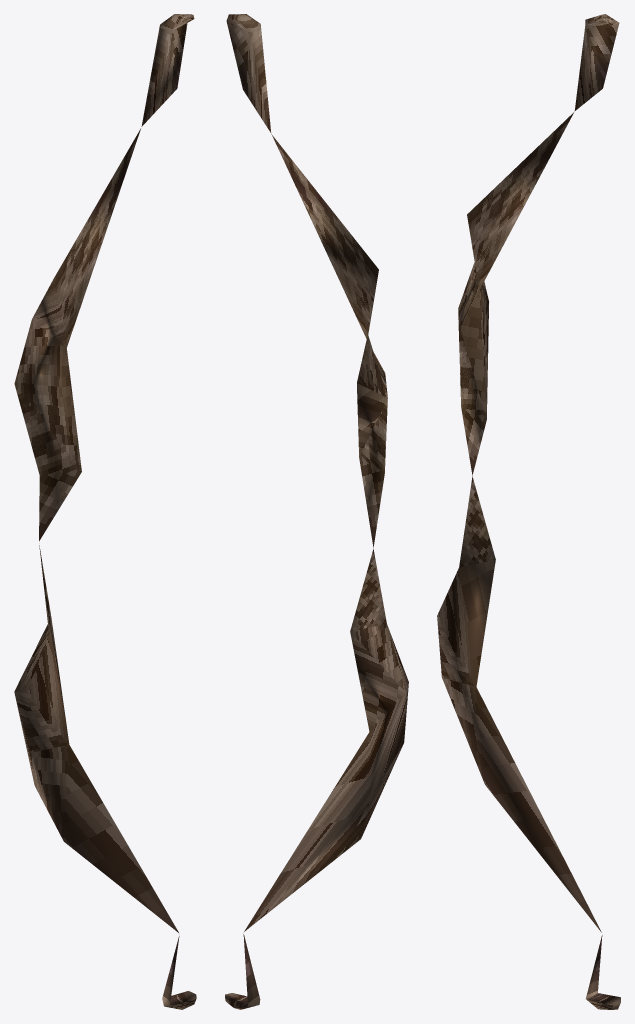
File: ae_bow_lod2.glb
3 views of the same model, side by side, from view 1: azimuth 30°, elevation 25°; view 2: azimuth 150°, elevation 25°; view 3: azimuth 330°, elevation 25° (orthographic).
Size of the model in its own units: 0.363 by 1.9 by 0.0919.
1 material, 1 textured.
